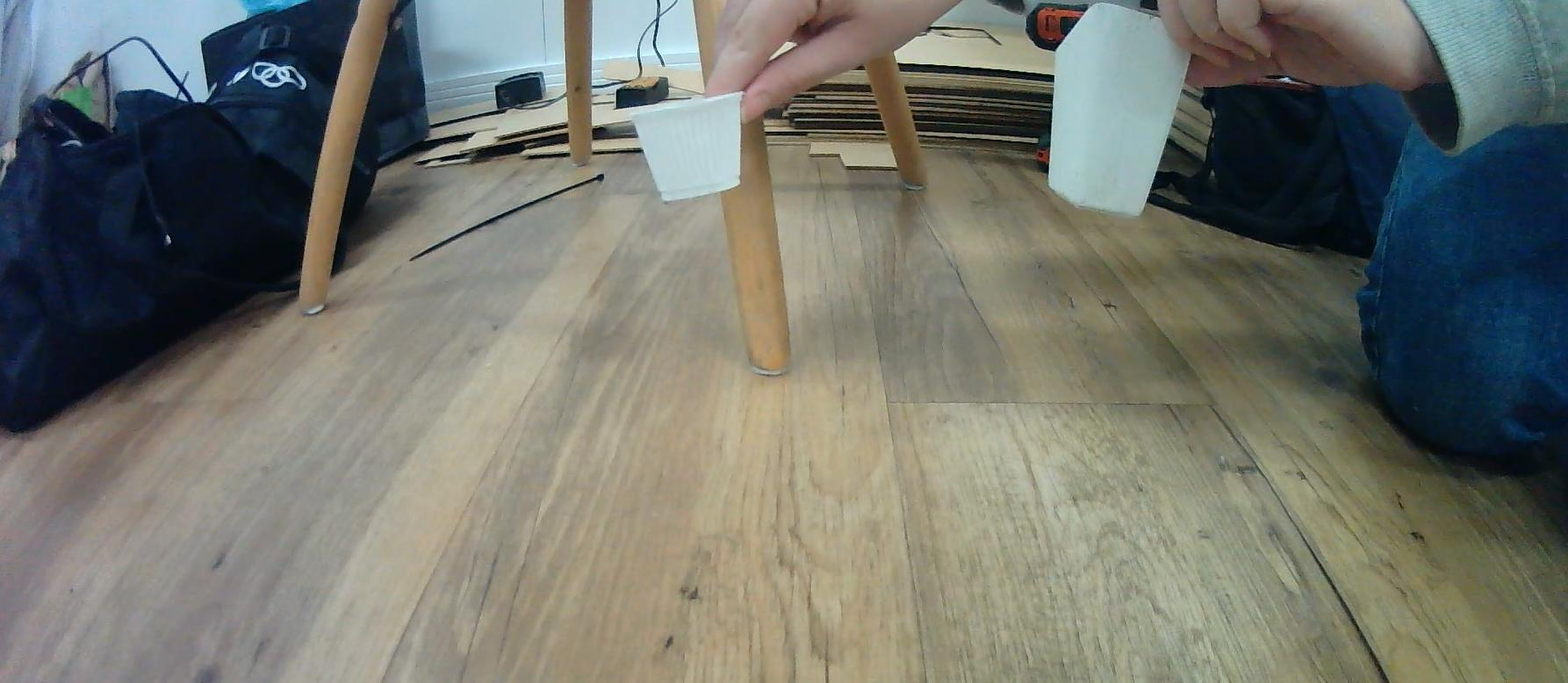erva_daninha: (1047, 3, 1198, 219)
planta: (629, 91, 744, 202)
